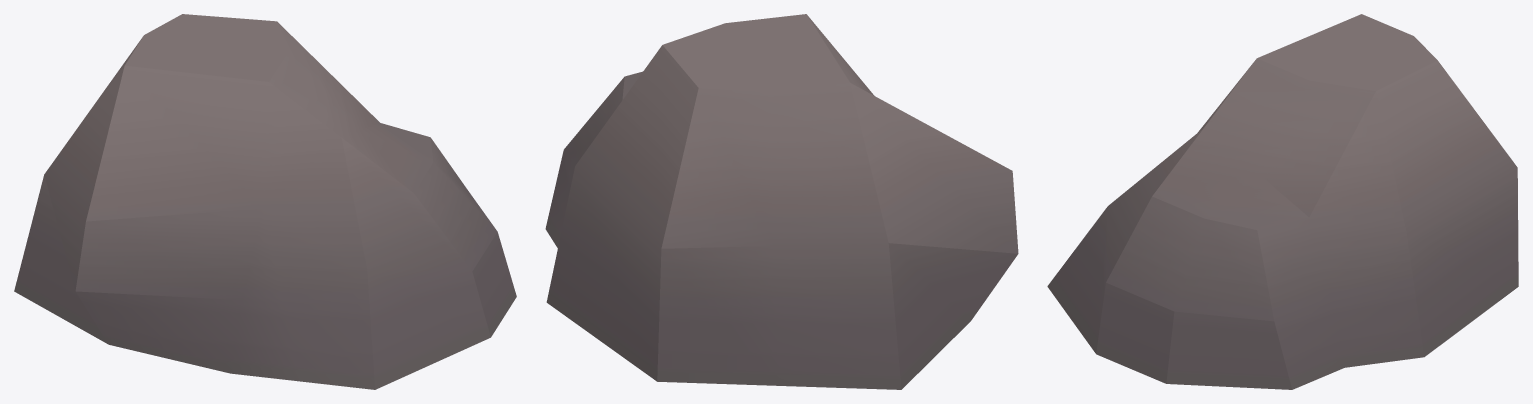
Rendered from village_town_boulder.glb.
3 renders of one model, left to right at view 1: azimuth 30°, elevation 25°; view 2: azimuth 150°, elevation 25°; view 3: azimuth 270°, elevation 25°, orthographic. The views are drawn at different scales.
Parts seen in each view (by area): view 1: Boulder.001_Material.005_0; view 2: Boulder.001_Material.005_0; view 3: Boulder.001_Material.005_0.
Boxes of the visible parts, x1,y1,x2,y2 form: Boulder.001_Material.005_0: (14,14,516,389); Boulder.001_Material.005_0: (545,14,1018,389); Boulder.001_Material.005_0: (1047,14,1518,389).
Size of the model in its own units: 1.89 by 1.03 by 1.93.
1 material, 1 textured.
